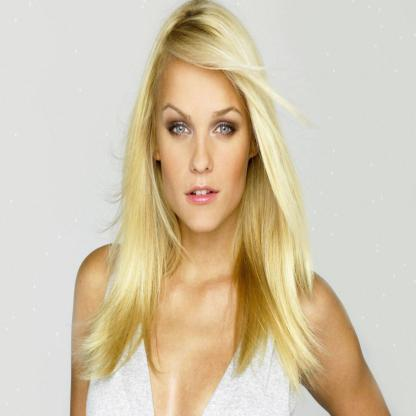long-hair: (92, 230, 315, 320)
